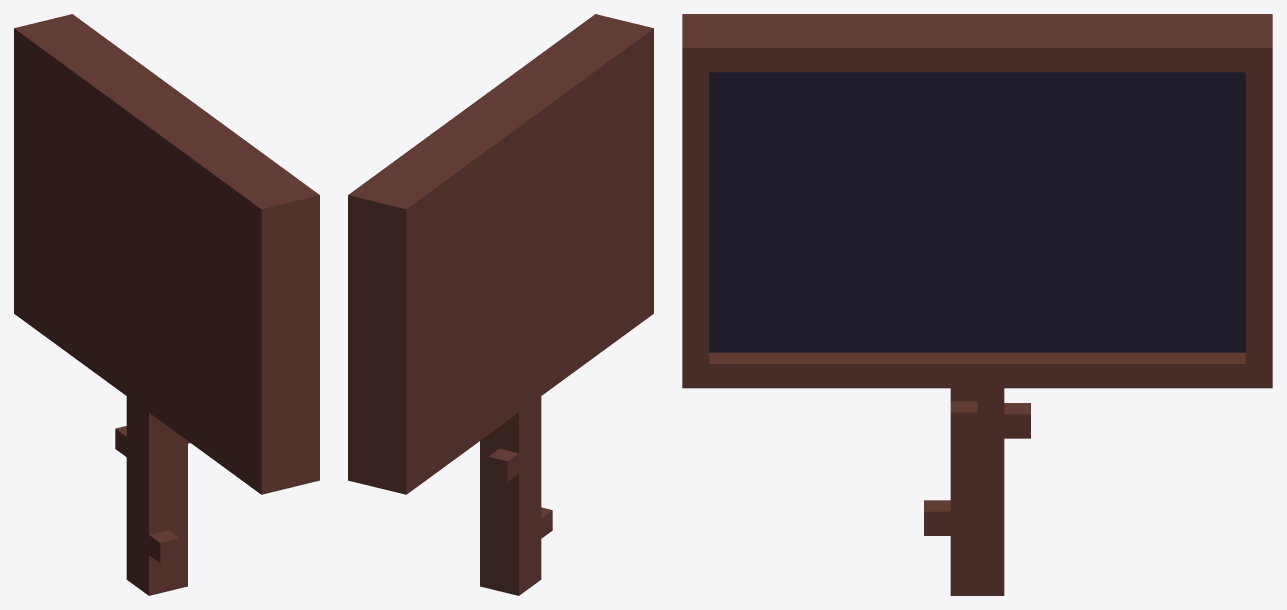
File: Leaderboard.gltf
The picture shows the model from 3 angles, left to right: view 1: azimuth 30°, elevation 25°; view 2: azimuth 150°, elevation 25°; view 3: azimuth 270°, elevation 25°; orthographic projection. The views are drawn at different scales.
Bounding box in the file's own units: 3 × 23 × 22.
1 material, 1 textured.
